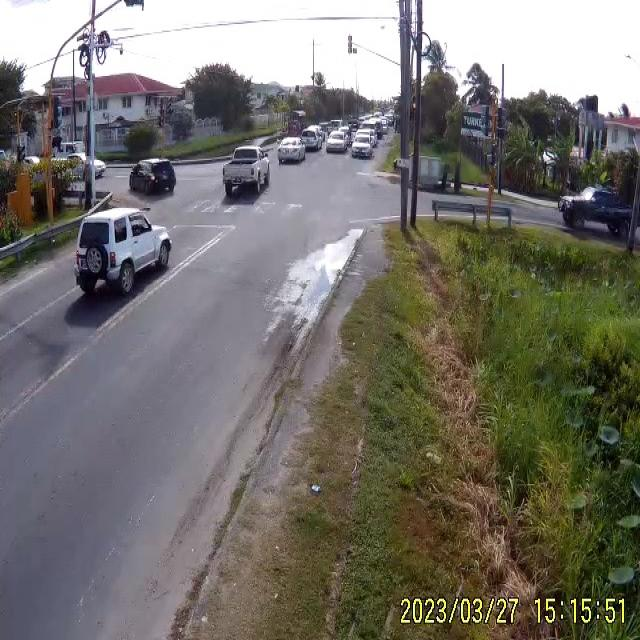car: (75, 205, 174, 297), (561, 187, 633, 238), (222, 148, 272, 200), (128, 158, 175, 196), (276, 138, 304, 166), (326, 130, 349, 156), (352, 134, 375, 158), (301, 128, 321, 150)
